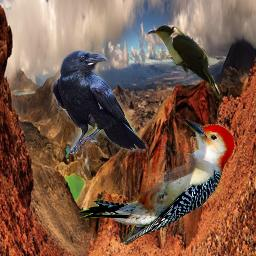Crow: (52, 49, 149, 154)
Cuckoo: (146, 25, 220, 99)
Woodpecker: (77, 119, 235, 246)
